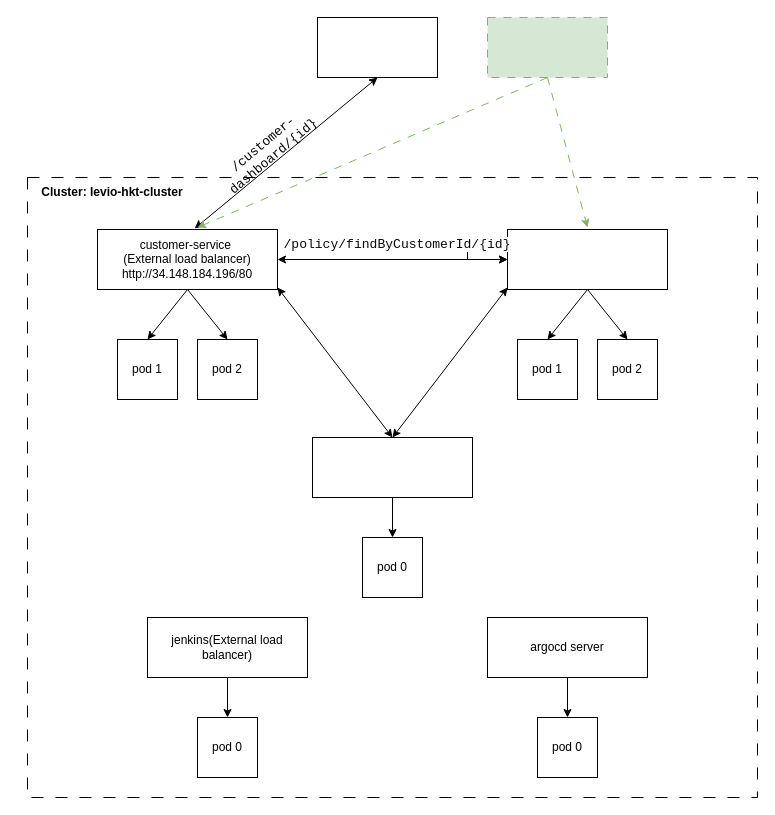
Some shapes in this 775 by 815 pixel diagram are drawn without their labels. Here are the shapes that lost their labels. From the top down, the centre of each, then its label:
point (377, 47): Clients: Postman, Curl
point (547, 47): Swagger /swagger-ui/index.html
point (587, 259): policy-service (External load balancer) http://xx.xxx.xxx.xxx/80
point (392, 467): mysql-dev (External load balancer) http://35.231.56.152:3306
